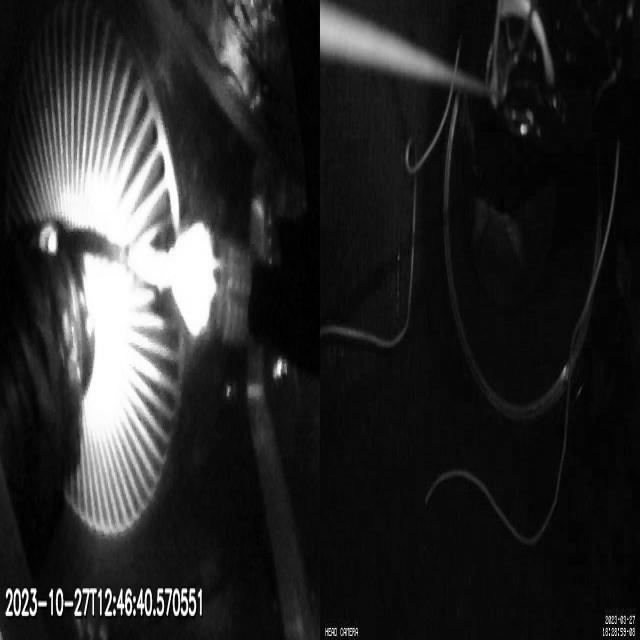head: (170, 224, 258, 355)
